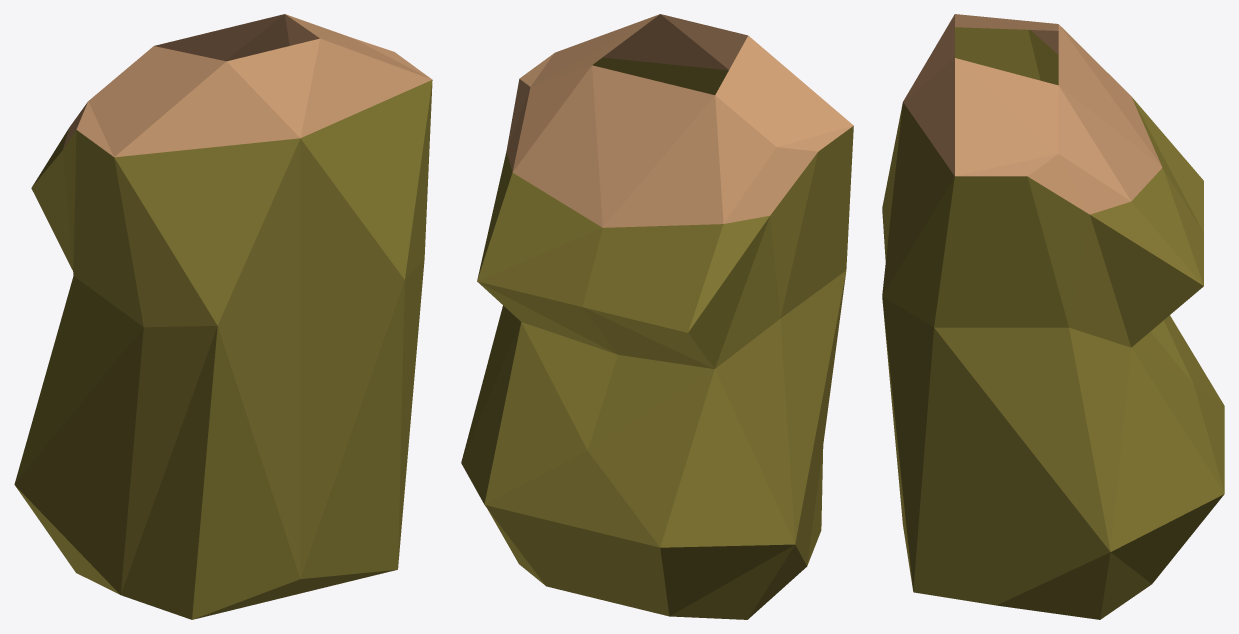
Rendered from npc_world_woman_4_2.obj.
The picture shows the model from 3 angles, left to right: view 1: azimuth 30°, elevation 25°; view 2: azimuth 150°, elevation 25°; view 3: azimuth 270°, elevation 25°; orthographic projection. The views are drawn at different scales.
Size of the model in its own units: 0.2969 by 0.4375 by 0.2578.
